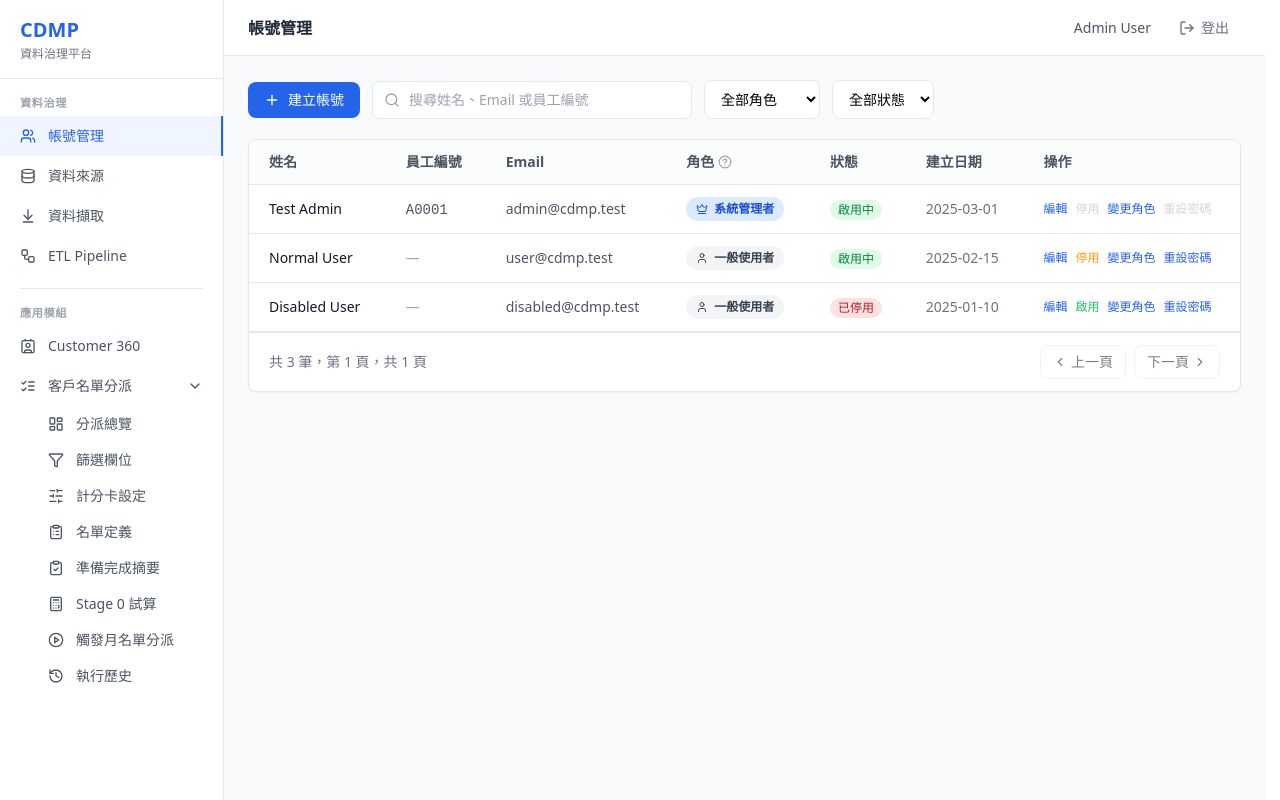
Scenario: AccountListPage › 變更角色整合 (F006a / AD-E07 v3.0) › 點擊「變更角色」按鈕開啟 4 角色對話框
This screenshot has width=1280, height=800.
Click the button "變更角色" in the row of "Test Admin": (1132, 209) [1108, 201, 1156, 217]
Wait 100 ms
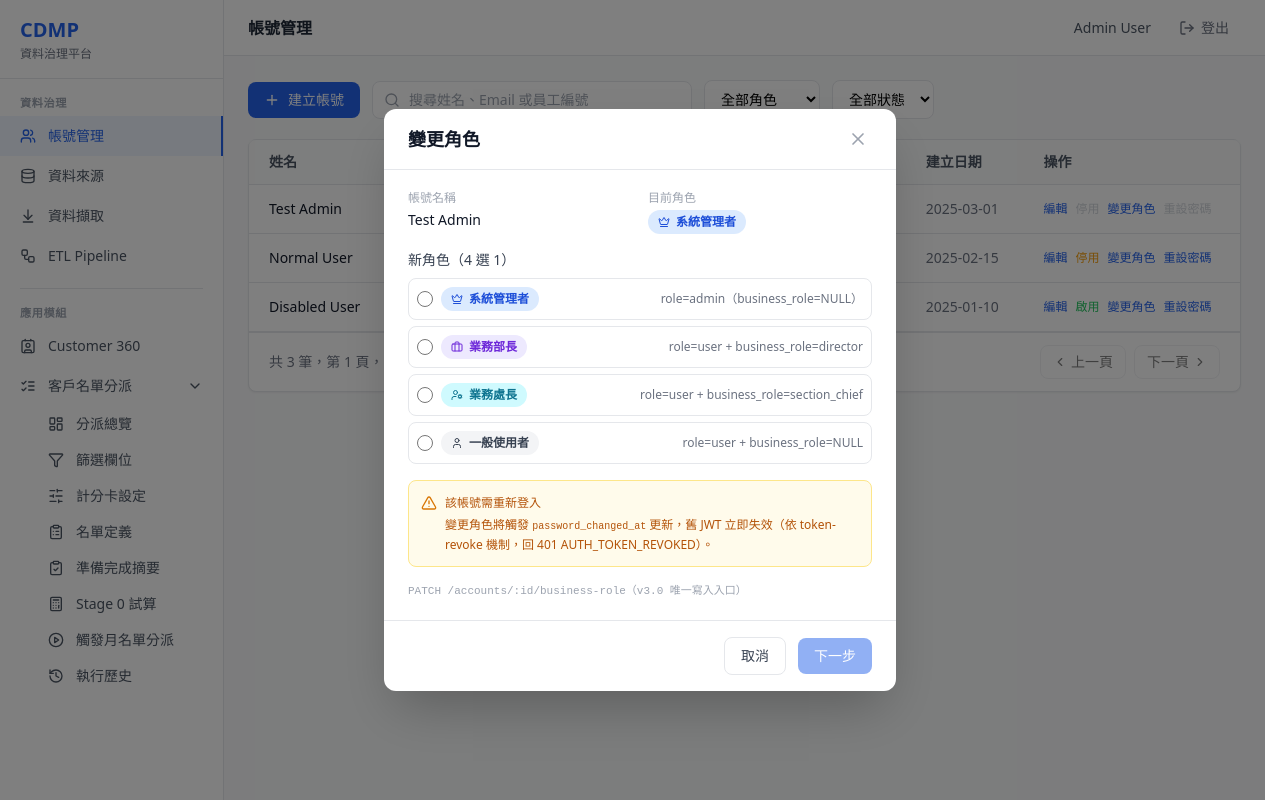
Expected: the heading "變更角色" is shown, [408, 125, 480, 153]
Expected: the text "新角色（4 選 1）" is shown, [408, 250, 515, 269]
Expected: the radio button with test id "new-role-admin" is shown, [417, 291, 433, 307]
